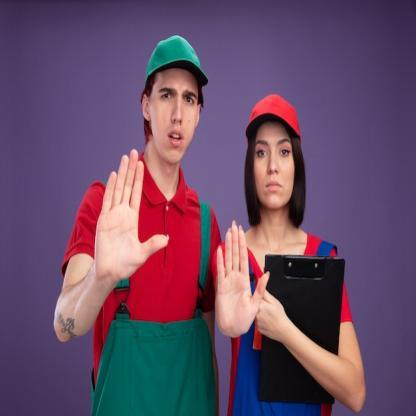stop: (92, 147, 168, 282), (214, 217, 270, 337)
